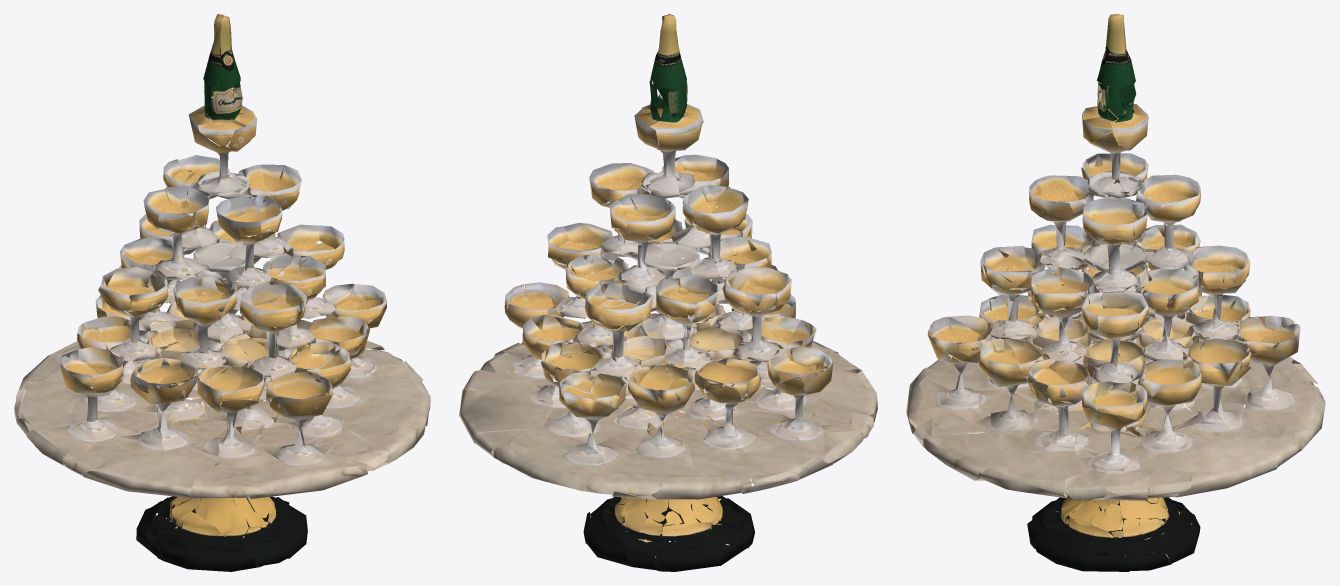
The model's file is champagne.glb.
3 views of the same model, side by side, from view 1: azimuth 30°, elevation 25°; view 2: azimuth 150°, elevation 25°; view 3: azimuth 270°, elevation 25° (orthographic).
Parts seen in each view (by area): view 1: Mesh_0; view 2: Mesh_0; view 3: Mesh_0.
Boxes of the visible parts, x1=… form: Mesh_0: x1=14, y1=14, x2=430, y2=571; Mesh_0: x1=459, y1=14, x2=877, y2=571; Mesh_0: x1=906, y1=14, x2=1325, y2=571.
Size of the model in its own units: 1.17 by 1.6 by 1.16.
1 material, 1 textured.
